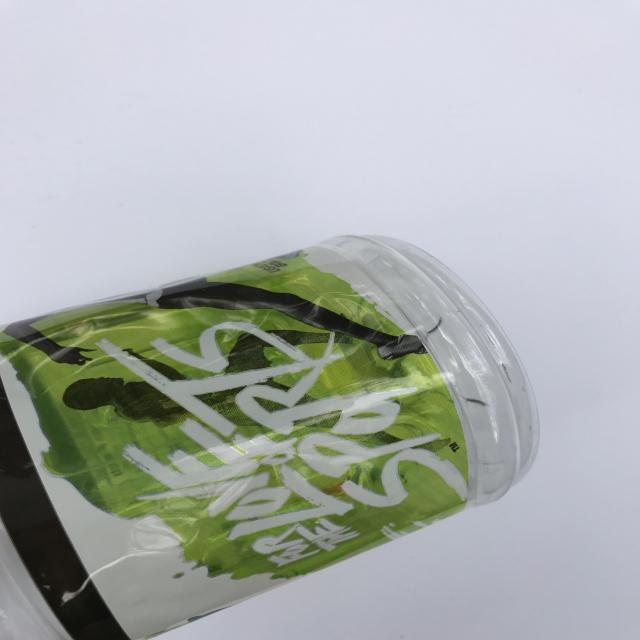plastic: (1, 233, 540, 638)
